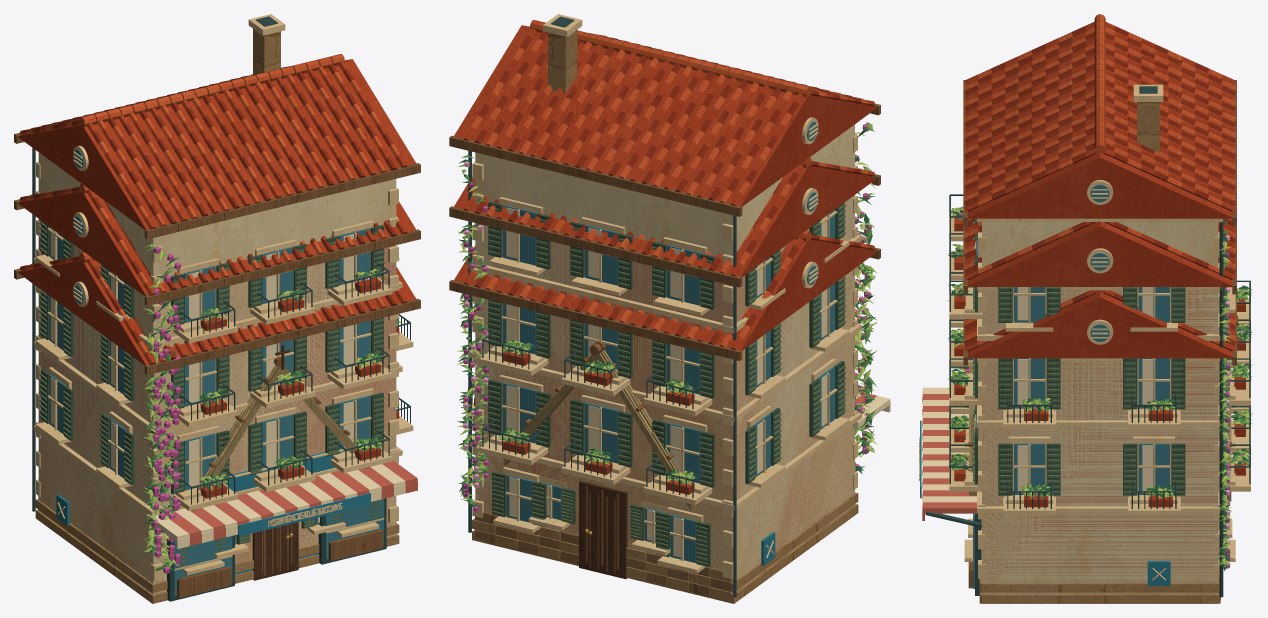
Rendered from village.glb.
3 views of the same model, side by side, from view 1: azimuth 30°, elevation 25°; view 2: azimuth 150°, elevation 25°; view 3: azimuth 270°, elevation 25° (orthographic). The views are drawn at different scales.
Visible parts, largest first — view 1: apartment, townhouse, cafe, cottage; view 2: apartment, townhouse, cafe, cottage; view 3: apartment, townhouse, cafe, cottage.
Part boxes in pixels (<box>): apartment: <box>14,14,420,603</box>; townhouse: <box>14,183,420,593</box>; cafe: <box>14,252,420,593</box>; cottage: <box>192,345,369,575</box>; apartment: <box>449,14,890,603</box>; townhouse: <box>449,157,880,593</box>; cafe: <box>449,230,880,596</box>; cottage: <box>503,341,697,573</box>; apartment: <box>919,14,1251,603</box>; townhouse: <box>919,218,1252,596</box>; cafe: <box>919,287,1252,595</box>; cottage: <box>968,315,1238,537</box>.
Bounding box in the file's own units: 10.55 × 16.49 × 10.21.
Materials: 30 (15 with a texture image).
